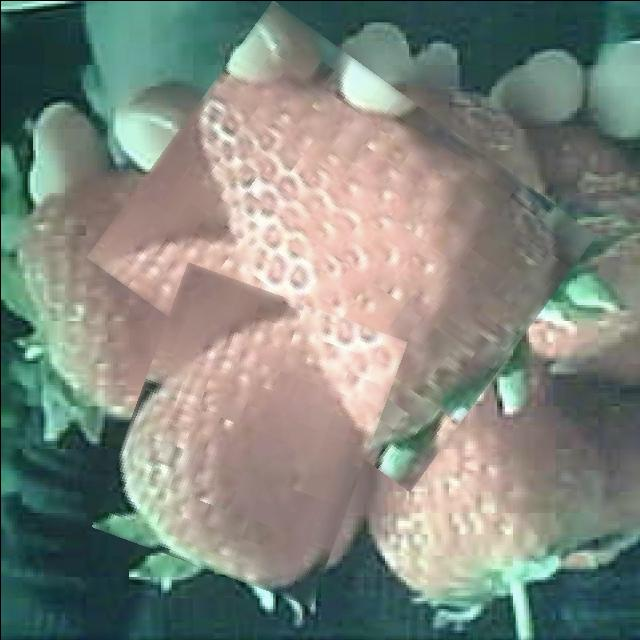strawberry: (114, 42, 568, 448), (111, 276, 386, 590)
